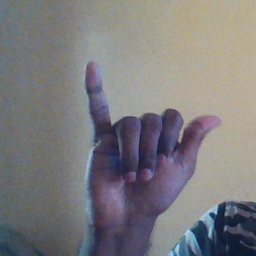J: (74, 62, 223, 213)
